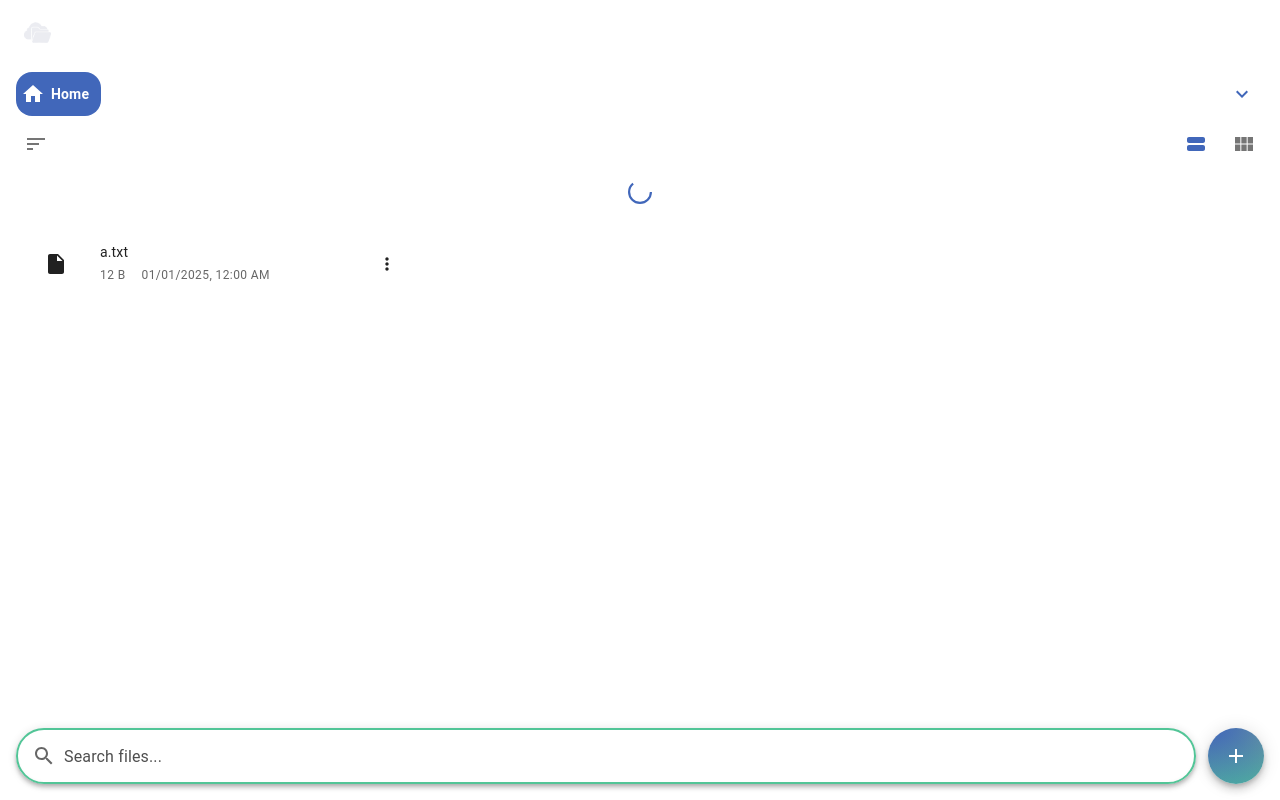
Test: FileManagerView › shows fab create/upload affordances for write-granted shared targets
The width and height of the screenshot is (1280, 800).
Click the button named "file actions".
click(1236, 756)  # box [1208,728,1264,784]
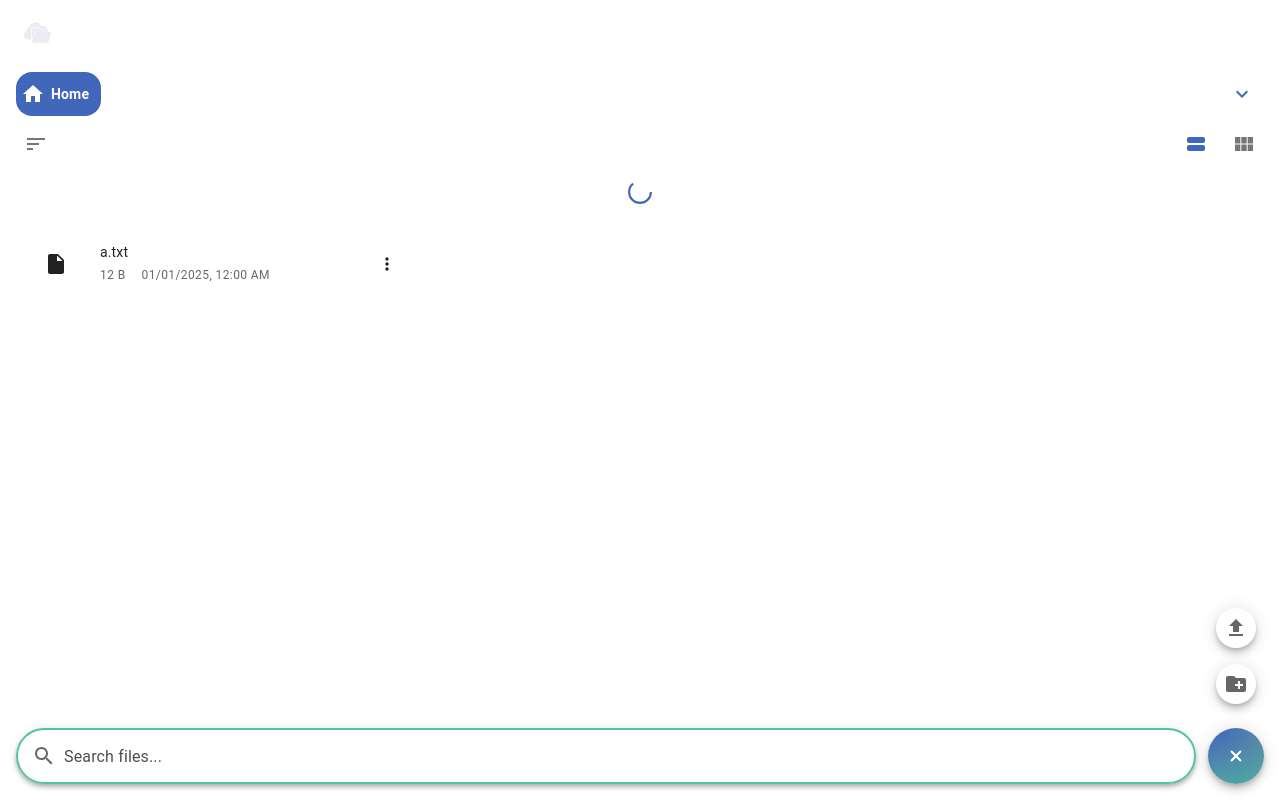
Now the menu item named "upload file" is shown, box [1216,608,1256,648]
Now the menu item named "create folder" is shown, box [1216,664,1256,704]
